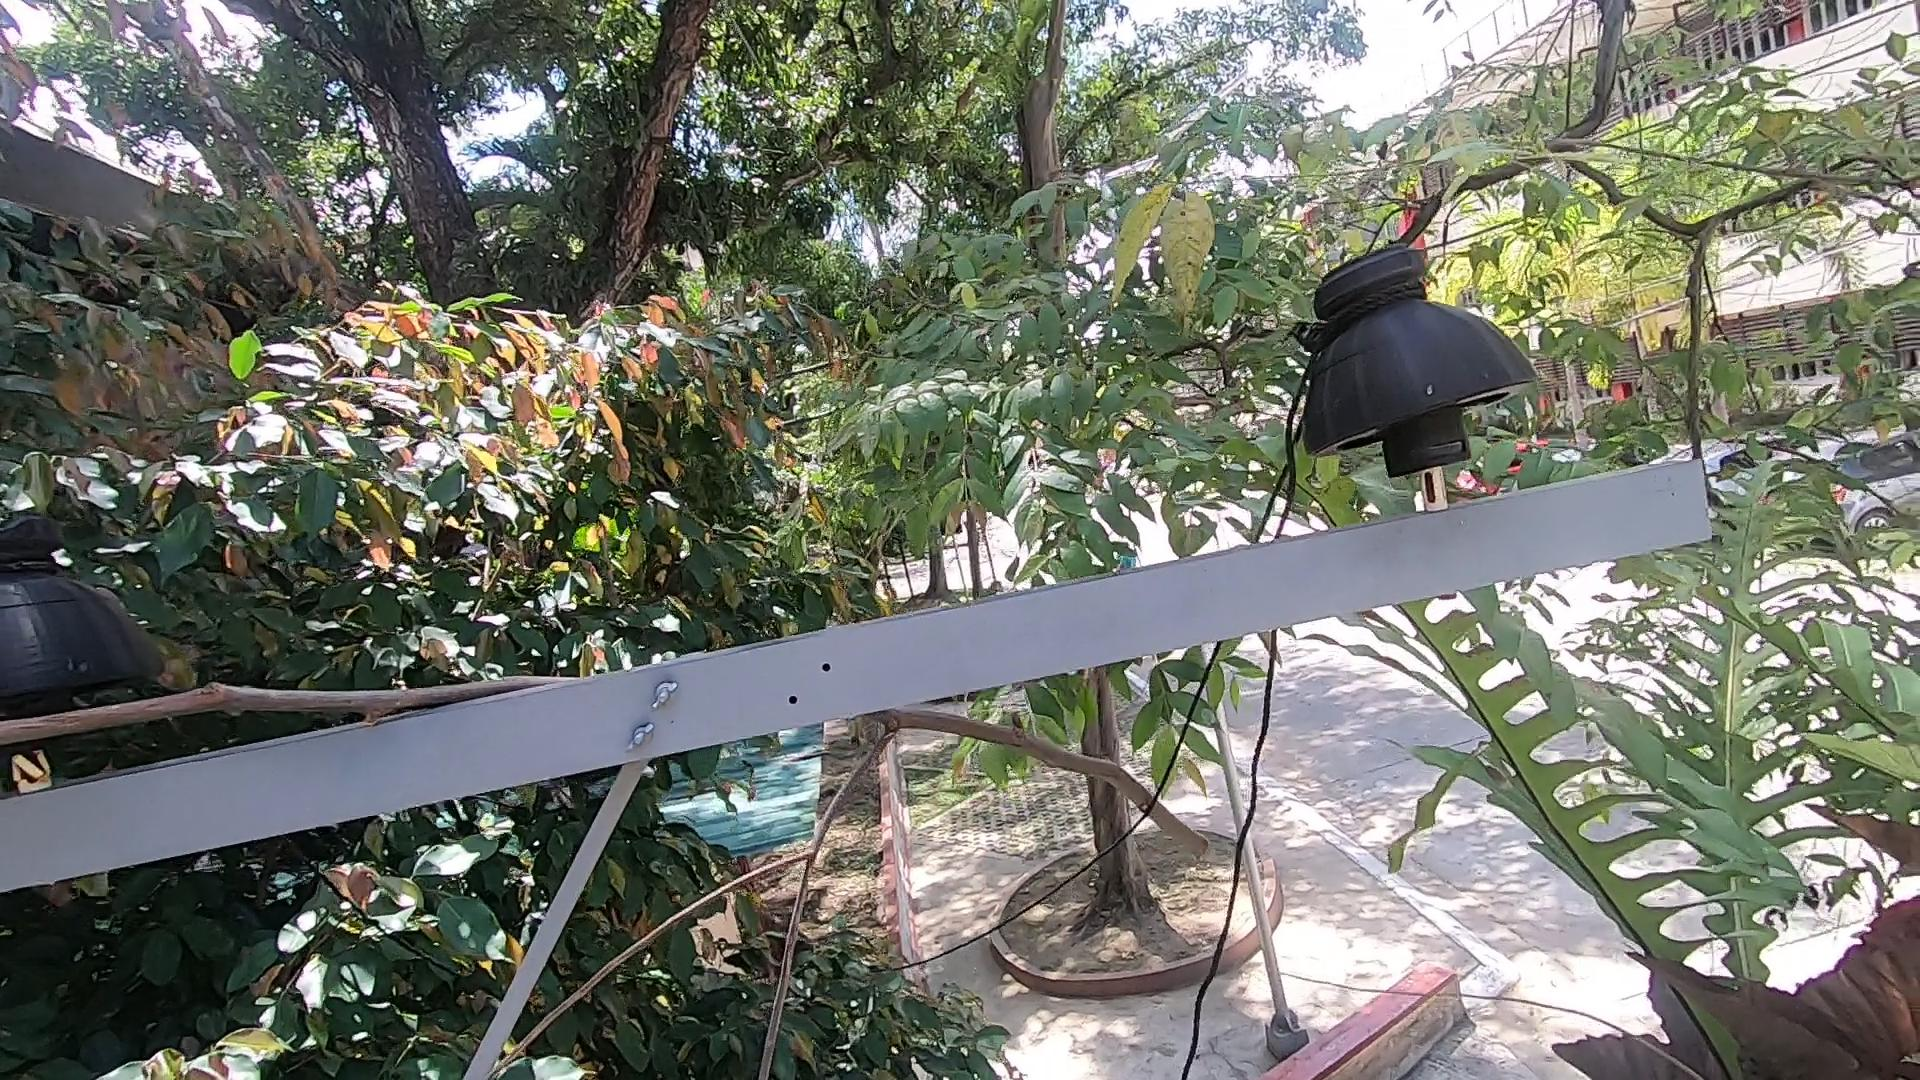tree branch: (491, 698, 1284, 1075), (5, 658, 582, 793)
